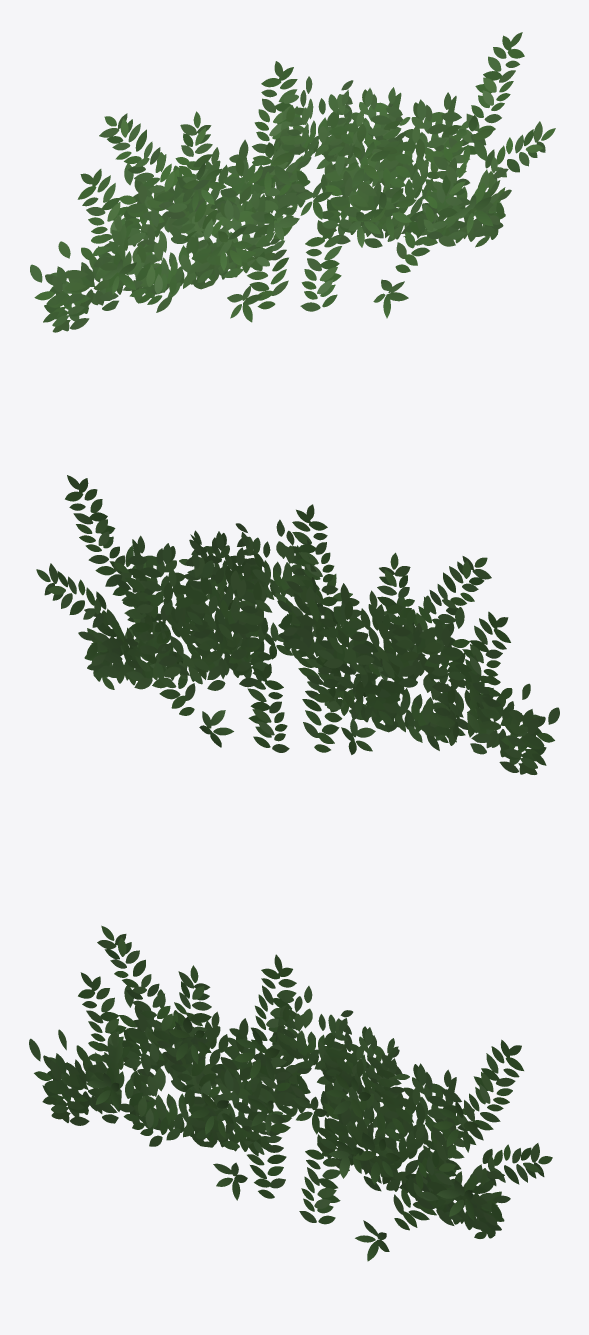
File: SM_Env_Vine_Creeping_04.fbx
The picture shows the model from 3 angles, top to bottom: view 1: azimuth 30°, elevation 25°; view 2: azimuth 150°, elevation 25°; view 3: azimuth 330°, elevation 25°; orthographic projection.
Parts seen in each view (by area): view 1: SM_Env_Vine_Creeping_04_LOD0; view 2: SM_Env_Vine_Creeping_04_LOD0; view 3: SM_Env_Vine_Creeping_04_LOD0.
Part boxes in pixels (x1,y1,x2,y2): SM_Env_Vine_Creeping_04_LOD0: (30,32,555,332); SM_Env_Vine_Creeping_04_LOD0: (36,475,559,774); SM_Env_Vine_Creeping_04_LOD0: (29,925,552,1261).
Size of what is drawn, in the model's own units: 389 by 252 by 14.9.
